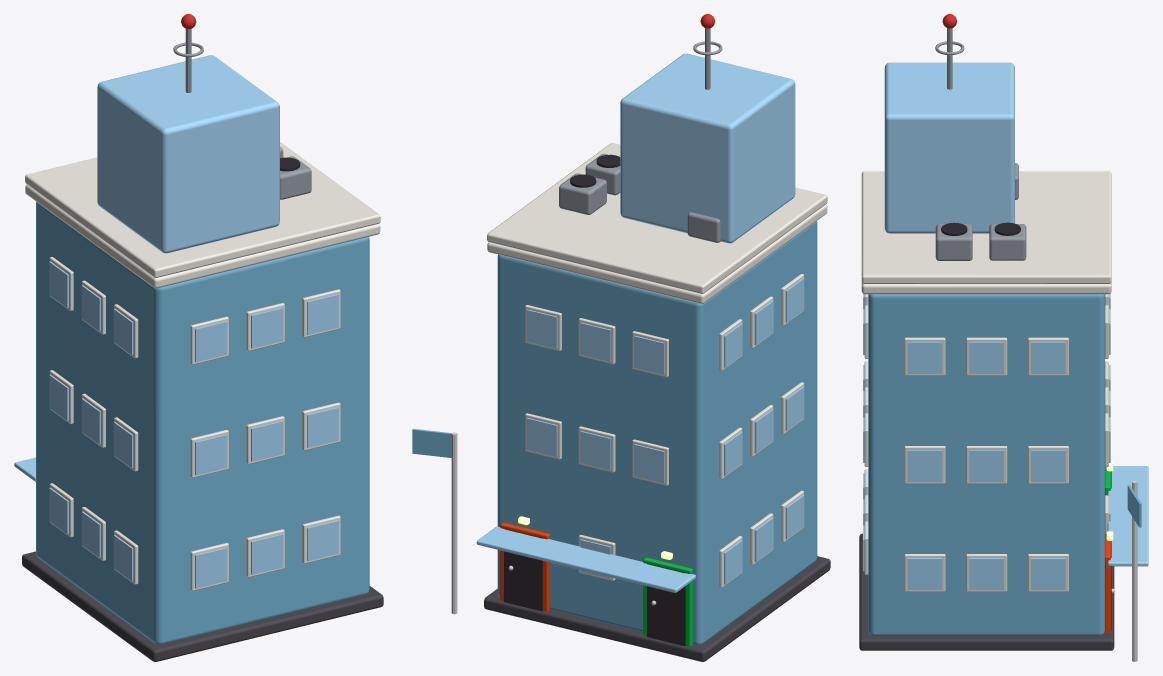
File: building_management_office_t3.glb
3 views of the same model, side by side, from view 1: azimuth 30°, elevation 25°; view 2: azimuth 150°, elevation 25°; view 3: azimuth 270°, elevation 25° (orthographic). The views are drawn at different scales.
Parts seen in each view (by area): view 1: Walls, Tower, Roof.Parapet, Plinth, Roof.Slab, WinB0.Pane, WinB1.Pane, WinB2.Pane.001, WinB0.Pane.001, WinB2.Pane, WinB1.Pane.001, WinB0.Pane.002 (+12 smaller); view 2: Walls, Tower, Roof.Parapet, Plinth, Canopy, Roof.Slab, Entry.Leaf, Exit.Leaf, AC.Box.003, Flag.Pole, Win1.Pane.002, Win2.Pane.002 (+18 smaller); view 3: Walls, Tower, Roof.Parapet, Plinth, Canopy, Roof.Slab, WinR0.Pane, WinR1.Pane, WinR2.Pane, AC.Box.003, AC.Box.002, WinR0.Pane.001 (+16 smaller).
Part boxes in pixels (bbox=[...]): Walls: bbox=[36, 202, 369, 644]; Tower: bbox=[97, 55, 279, 253]; Roof.Parapet: bbox=[25, 142, 380, 277]; Plinth: bbox=[22, 551, 383, 661]; Roof.Slab: bbox=[25, 184, 380, 288]; WinB0.Pane: bbox=[195, 547, 227, 588]; WinB1.Pane: bbox=[195, 434, 227, 475]; WinB2.Pane.001: bbox=[251, 307, 283, 348]; WinB0.Pane.001: bbox=[251, 534, 283, 574]; WinB2.Pane: bbox=[195, 321, 227, 362]; WinB1.Pane.001: bbox=[251, 421, 283, 461]; WinB0.Pane.002: bbox=[307, 520, 338, 561]; Walls: bbox=[497, 221, 817, 645]; Tower: bbox=[620, 53, 795, 243]; Roof.Parapet: bbox=[487, 143, 827, 293]; Plinth: bbox=[484, 556, 830, 661]; Canopy: bbox=[476, 526, 695, 592]; Roof.Slab: bbox=[487, 204, 827, 303]; Entry.Leaf: bbox=[647, 563, 685, 646]; Exit.Leaf: bbox=[504, 528, 542, 611]; AC.Box.003: bbox=[559, 173, 606, 214]; Flag.Pole: bbox=[451, 432, 457, 614]; Win1.Pane.002: bbox=[526, 418, 557, 456]; Win2.Pane.002: bbox=[526, 309, 557, 348]; Walls: bbox=[868, 294, 1104, 635]; Tower: bbox=[884, 62, 1014, 233]; Roof.Parapet: bbox=[861, 171, 1111, 283]; Plinth: bbox=[859, 533, 1114, 650]; Canopy: bbox=[1107, 466, 1148, 566]; Roof.Slab: bbox=[861, 282, 1111, 294]; WinR0.Pane: bbox=[907, 558, 942, 589]; WinR1.Pane: bbox=[907, 450, 942, 481]; WinR2.Pane: bbox=[907, 342, 942, 373]; AC.Box.003: bbox=[989, 224, 1026, 260]; AC.Box.002: bbox=[935, 224, 972, 260]; WinR0.Pane.001: bbox=[969, 558, 1003, 589].
Size of the model in its own units: 3.9 by 7.62 by 3.52.
